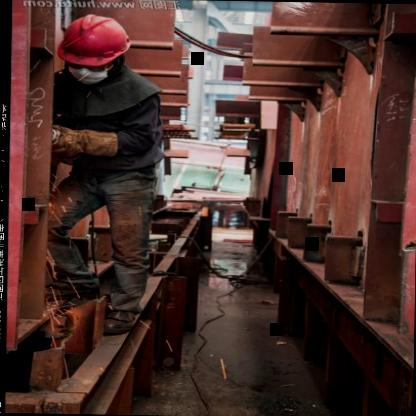helmet: (52, 12, 137, 87)
